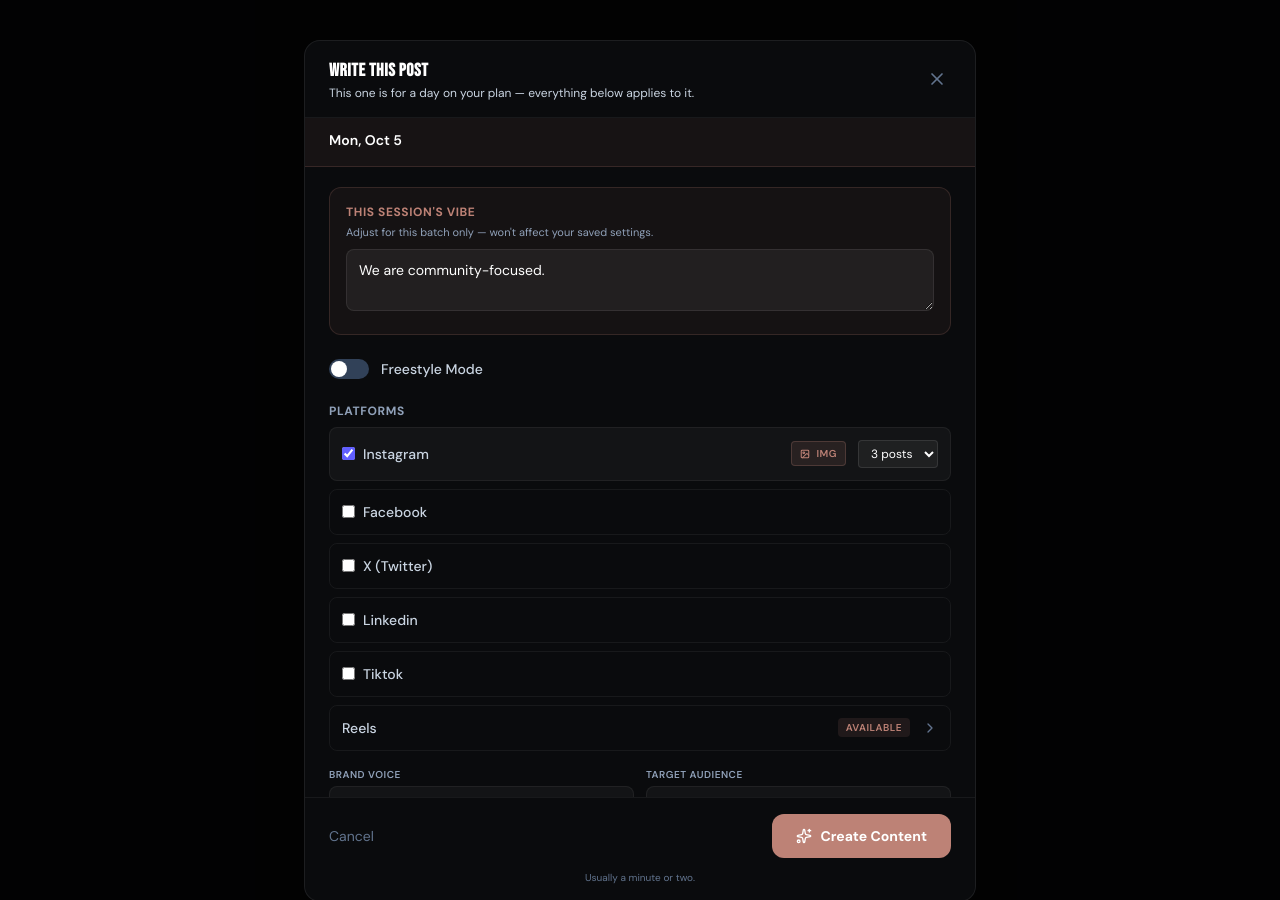
Test case: slot run: the outcome reaches the modal › a 3-post slot run that never reports back agrees in number
This screenshot has width=1280, height=900.
Click the button "Create Content" at (862, 836), box [772,814,951,858]
Wait 604000 ms
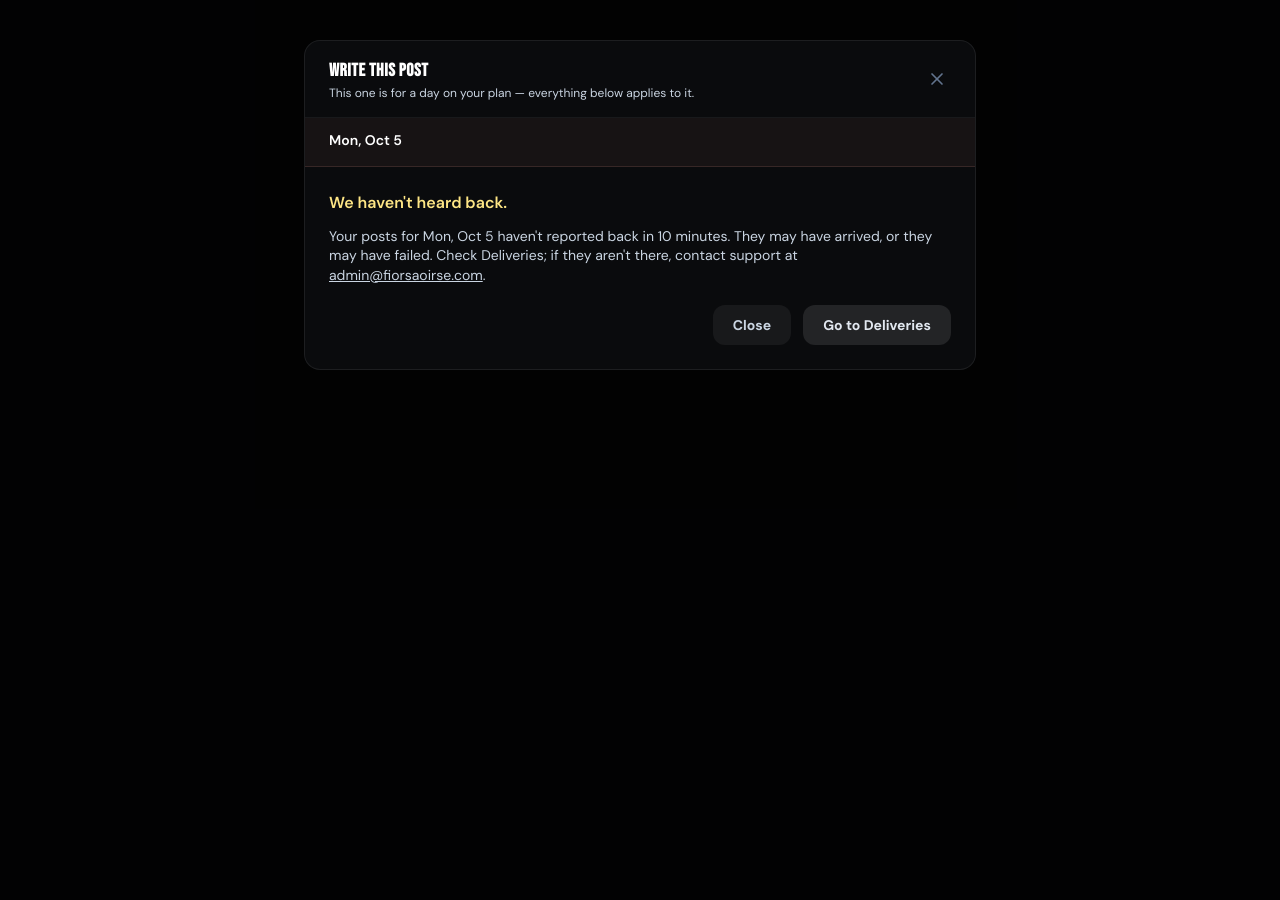
Now the element that starts with "We haven't heard back." shows "Your posts for Mon, Oct 5 haven't reported back in 10 minutes. They may have arrived, or they may have failed.", box [305,167,975,369]
Now the element that starts with "We haven't heard back." shows "if they aren't there", box [305,167,975,369]
